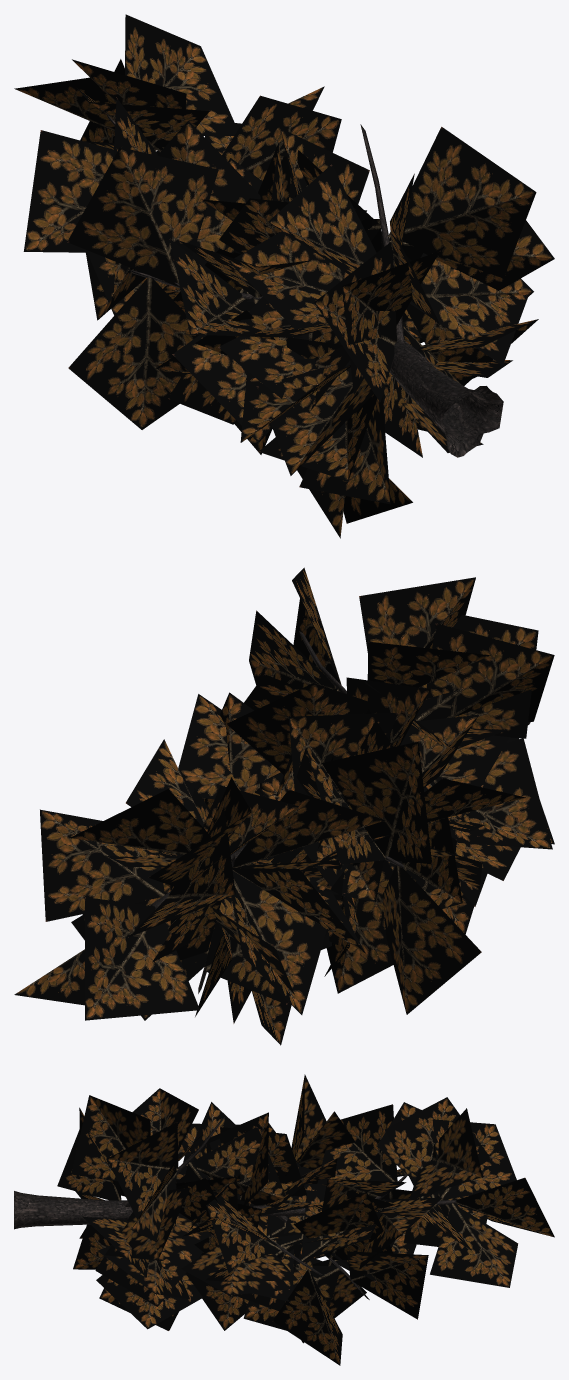
Rendered from tree_6.glb.
3 views of the same model, one above another, from view 1: azimuth 30°, elevation 25°; view 2: azimuth 150°, elevation 25°; view 3: azimuth 270°, elevation 25° (orthographic). The views are drawn at different scales.
Visible parts, largest first — view 1: tree_6_leaves, tree_6; view 2: tree_6_leaves, tree_6; view 3: tree_6_leaves, tree_6.
Part boxes in pixels (x1,y1,x2,y2): tree_6_leaves: (14, 14, 554, 538); tree_6: (106, 114, 503, 457); tree_6_leaves: (14, 567, 554, 1045); tree_6: (151, 631, 530, 993); tree_6_leaves: (57, 1074, 554, 1365); tree_6: (14, 1117, 456, 1299).
Size of the model in its own units: 3.25 by 3.07 by 6.06.
Materials: 2 (2 with a texture image).
